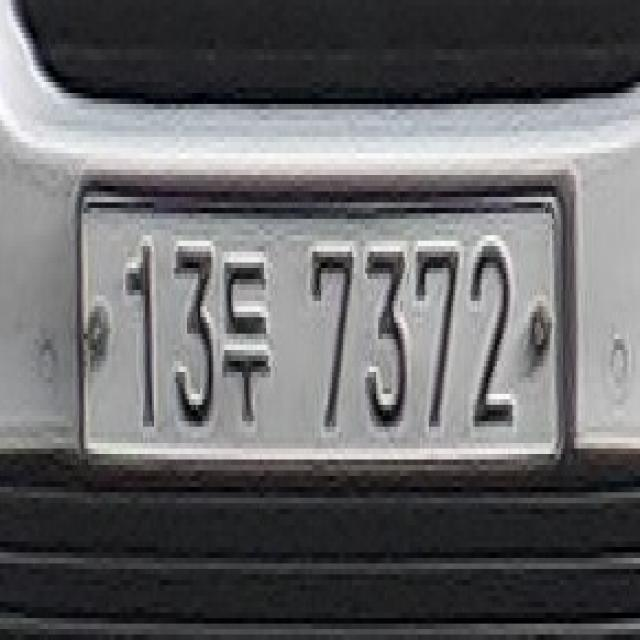1: (114, 219, 163, 448)
2: (466, 214, 521, 448)
3: (358, 235, 414, 449), (167, 224, 218, 454)
7: (299, 230, 361, 443), (411, 230, 460, 448)
du: (218, 241, 279, 443)
license_plate: (68, 153, 576, 487)
